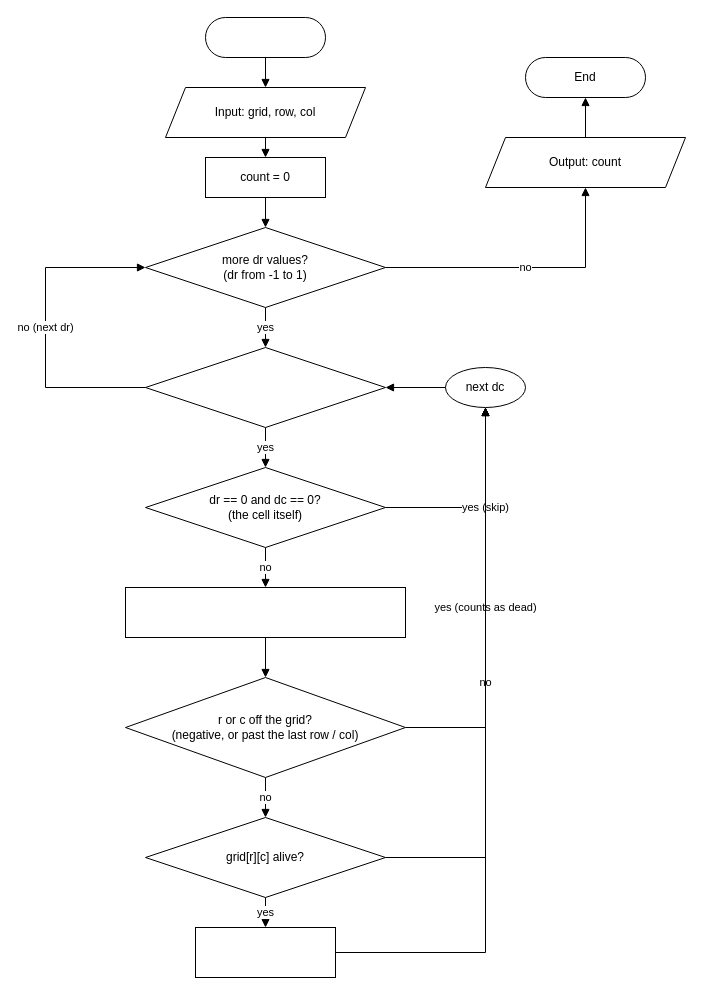
This 703x995 diagram has some shape labels left out. Here are the shapes that lost their labels. From the top down, the box of each, then its label:
(204, 16, 326, 58): Start
(144, 346, 386, 428): more dc values? (dc from -1 to 1)
(124, 586, 406, 638): r = row as i32 + dr c = col as i32 + dc
(194, 926, 336, 978): count = count + 1
